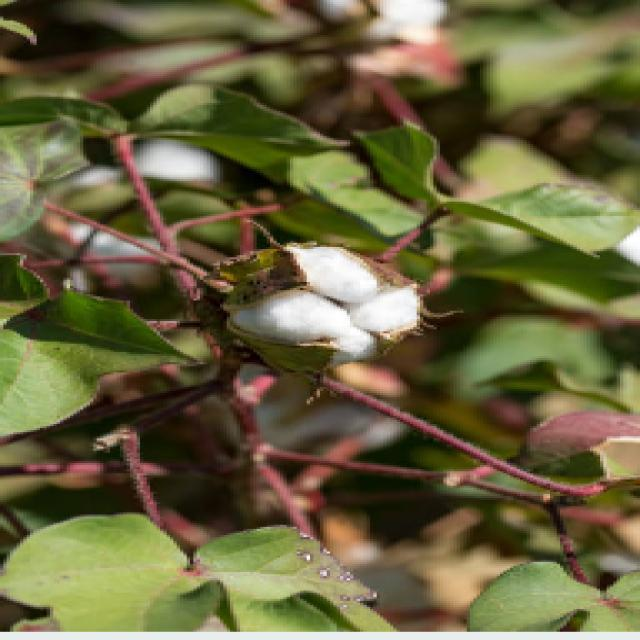Split Cotton Boll: (218, 234, 438, 368)
